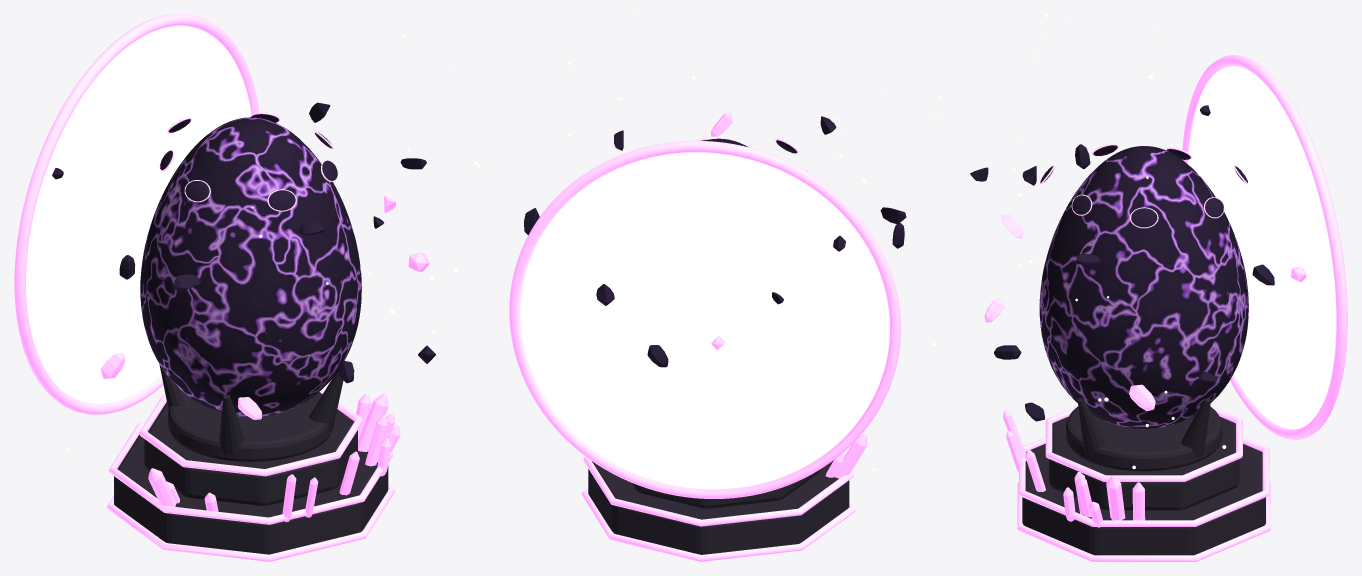
Rendered from voidriftegg.glb.
The picture shows the model from 3 angles, left to right: view 1: azimuth 30°, elevation 25°; view 2: azimuth 150°, elevation 25°; view 3: azimuth 270°, elevation 25°; orthographic projection. The views are drawn at different scales.
Parts seen in each view (by area): view 1: VoidRiftEgg_Body, VoidRiftEgg_Portal, VoidRiftEgg_Stand_Base, VoidRiftEgg_PortalRing, VoidRiftEgg_Stand_Mid, VoidRiftEgg_Stand_Cup, VoidRiftEgg_Stand_Trim, VoidRiftEgg_Stand_Trim.002, VoidRiftEgg_Stand_Trim.001, VoidRiftEgg_Stand_Prong.002, VoidRiftEgg_Stand_Prong.003, VoidRiftEgg_BaseCrystal (+3 smaller); view 2: VoidRiftEgg_Portal, VoidRiftEgg_PortalRing, VoidRiftEgg_Stand_Base, VoidRiftEgg_Stand_Trim.002, VoidRiftEgg_Stand_Trim, VoidRiftEgg_Stand_Mid, VoidRiftEgg_BaseCrystal.008; view 3: VoidRiftEgg_Body, VoidRiftEgg_Portal, VoidRiftEgg_Stand_Base, VoidRiftEgg_PortalRing, VoidRiftEgg_Stand_Mid, VoidRiftEgg_Stand_Cup, VoidRiftEgg_Stand_Trim, VoidRiftEgg_Stand_Trim.002, VoidRiftEgg_Stand_Trim.001, VoidRiftEgg_Stand_Prong, VoidRiftEgg_Stand_Prong.003, VoidRiftEgg_BaseCrystal (+1 smaller).
Part boxes in pixels (box(x1,y1,x2,y2)): VoidRiftEgg_Body: box(140, 117, 361, 416); VoidRiftEgg_Portal: box(26, 25, 251, 403); VoidRiftEgg_Stand_Base: box(114, 434, 388, 554); VoidRiftEgg_PortalRing: box(14, 14, 259, 414); VoidRiftEgg_Stand_Mid: box(144, 402, 357, 505); VoidRiftEgg_Stand_Cup: box(168, 392, 333, 461); VoidRiftEgg_Stand_Trim: box(108, 421, 393, 524); VoidRiftEgg_Stand_Trim.002: box(107, 484, 394, 561); VoidRiftEgg_Stand_Trim.001: box(139, 389, 362, 476); VoidRiftEgg_Stand_Prong.002: box(219, 394, 244, 455); VoidRiftEgg_Stand_Prong.003: box(309, 371, 343, 432); VoidRiftEgg_BaseCrystal: box(358, 393, 388, 451); VoidRiftEgg_Portal: box(520, 152, 889, 489); VoidRiftEgg_PortalRing: box(509, 140, 900, 498); VoidRiftEgg_Stand_Base: box(588, 460, 849, 554); VoidRiftEgg_Stand_Trim.002: box(581, 488, 855, 561); VoidRiftEgg_Stand_Trim: box(583, 456, 854, 526); VoidRiftEgg_Stand_Mid: box(632, 470, 819, 508); VoidRiftEgg_BaseCrystal.008: box(835, 434, 867, 478); VoidRiftEgg_Body: box(1039, 146, 1248, 428); VoidRiftEgg_Portal: box(1188, 66, 1336, 429); VoidRiftEgg_Stand_Base: box(1022, 444, 1265, 555); VoidRiftEgg_PortalRing: box(1182, 55, 1347, 439); VoidRiftEgg_Stand_Mid: box(1049, 416, 1239, 510); VoidRiftEgg_Stand_Cup: box(1066, 406, 1222, 471); VoidRiftEgg_Stand_Trim: box(1019, 437, 1269, 526); VoidRiftEgg_Stand_Trim.002: box(1017, 482, 1270, 561); VoidRiftEgg_Stand_Trim.001: box(1045, 405, 1242, 481); VoidRiftEgg_Stand_Prong: box(1181, 398, 1210, 457); VoidRiftEgg_Stand_Prong.003: box(1077, 397, 1107, 457); VoidRiftEgg_BaseCrystal: box(1106, 475, 1125, 520).
Bounding box in the file's own units: 5.38 × 5.61 × 4.58.
7 materials, 1 textured.
